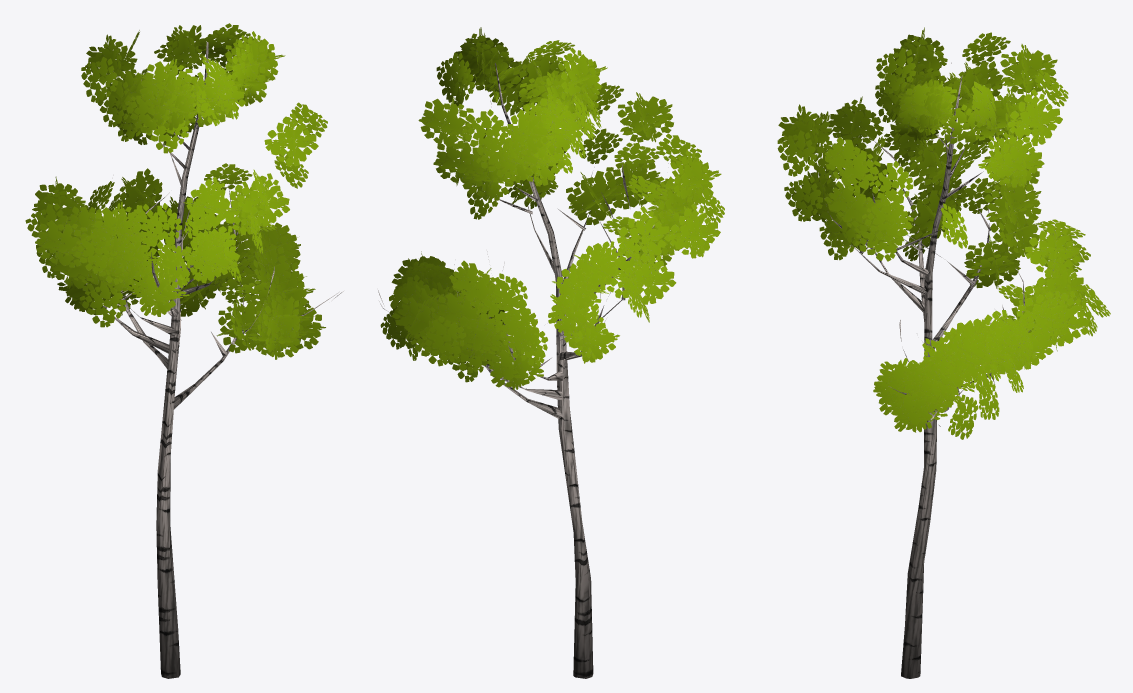
File: tree-health-3-mature.glb
The picture shows the model from 3 angles, left to right: view 1: azimuth 30°, elevation 25°; view 2: azimuth 150°, elevation 25°; view 3: azimuth 270°, elevation 25°; orthographic projection. The views are drawn at different scales.
Visible parts, largest first — view 1: Birch_3; view 2: Birch_3; view 3: Birch_3.
Boxes of the visible parts, <box> form: Birch_3: <box>25,23,343,678</box>; Birch_3: <box>378,27,724,678</box>; Birch_3: <box>777,27,1110,678</box>.
Size of the model in its own units: 3.34 by 6.01 by 2.95.
Materials: 2 (2 with a texture image).
